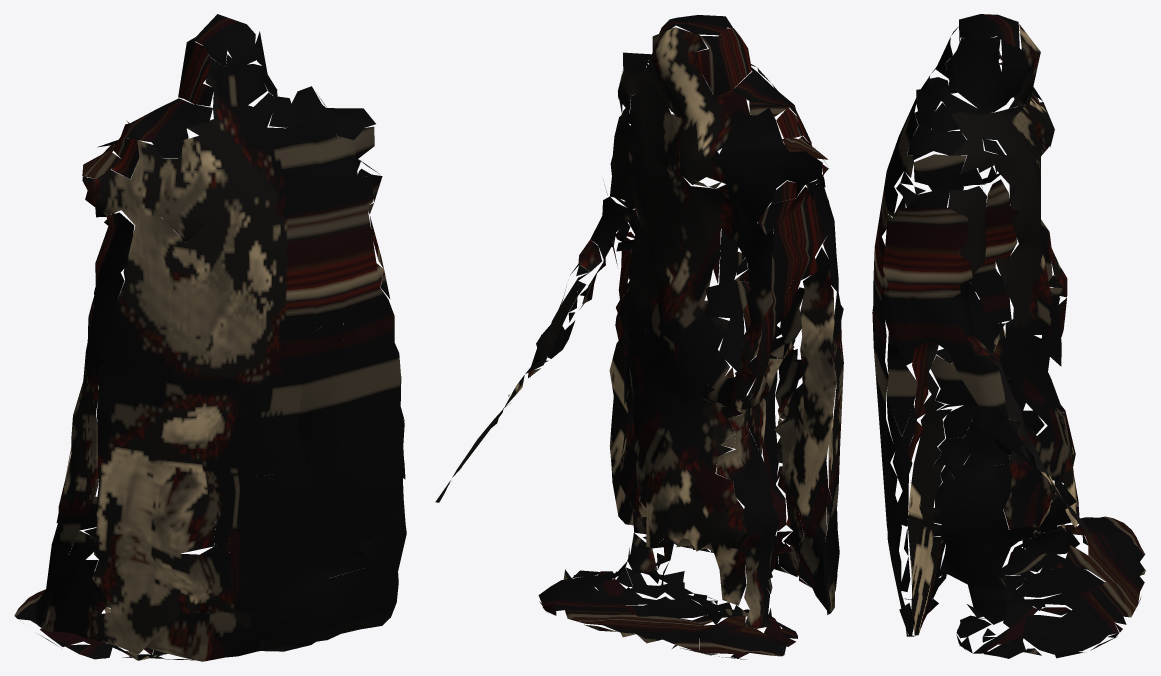
3 renders of one model, left to right at view 1: azimuth 30°, elevation 25°; view 2: azimuth 150°, elevation 25°; view 3: azimuth 270°, elevation 25°, orthographic. The views are drawn at different scales.
Visible parts, largest first — view 1: body.002; view 2: body.002; view 3: body.002.
Part boxes in pixels (bbox=[...]): body.002: bbox=[14, 14, 406, 661]; body.002: bbox=[435, 15, 843, 659]; body.002: bbox=[872, 14, 1145, 658].
Size of the model in its own units: 1.24 by 1.99 by 0.8341.
1 material, 1 textured.
